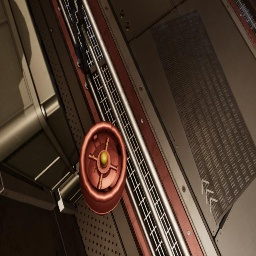NitrogenTank ,: (79, 121, 127, 217)
